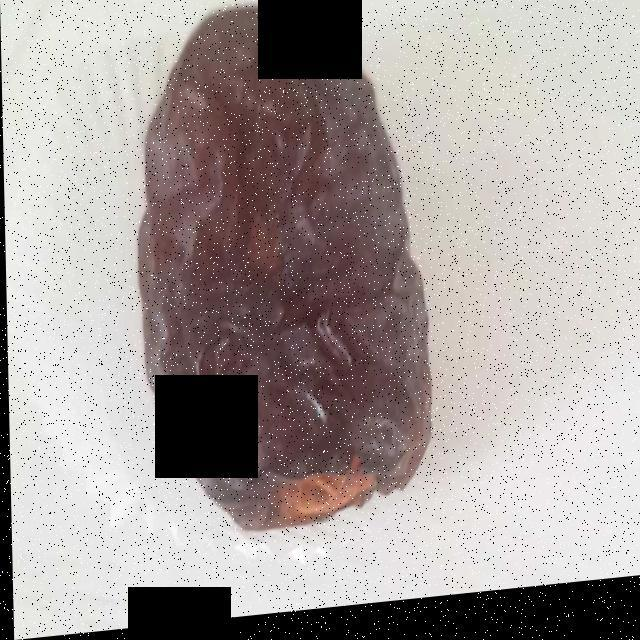dates: (139, 17, 425, 534)
